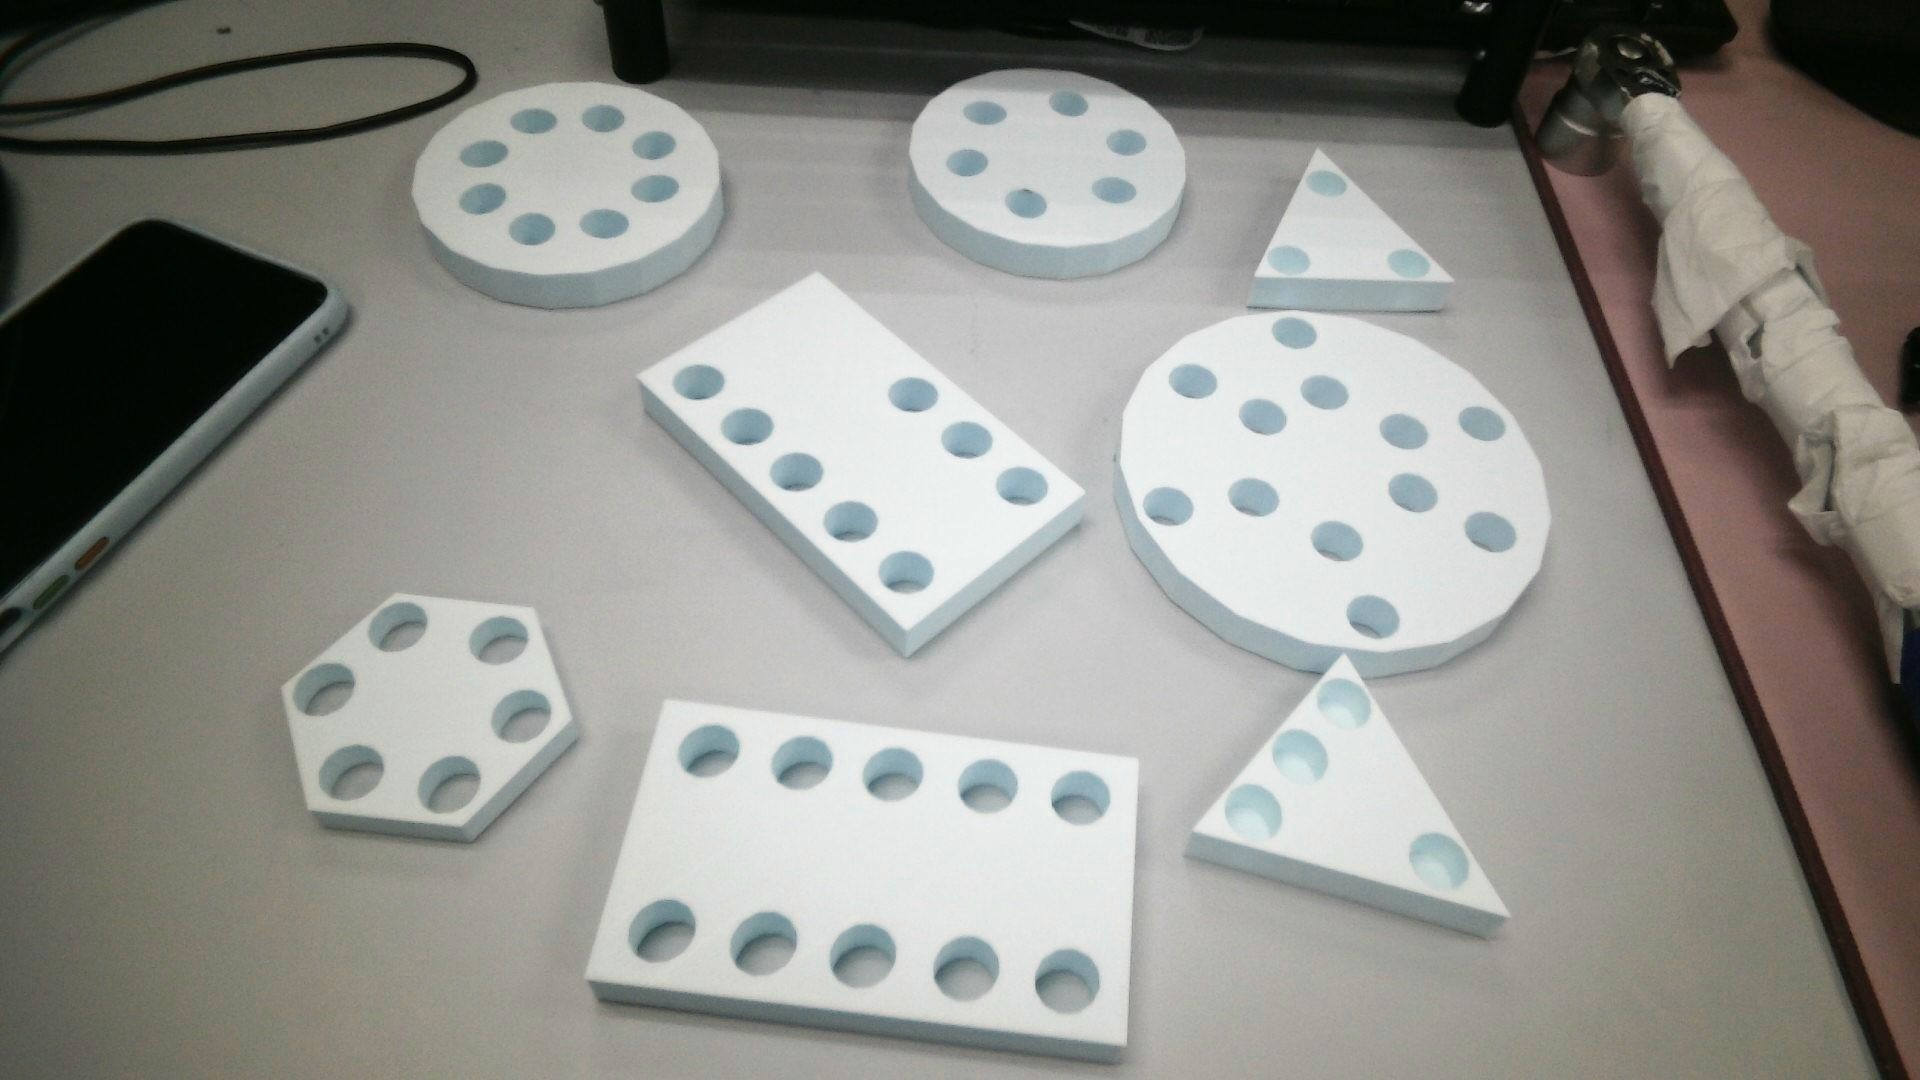hole: (626, 897, 695, 969), (828, 920, 897, 989), (413, 749, 483, 815), (316, 738, 385, 804), (727, 909, 795, 975), (934, 938, 1000, 1000), (487, 684, 554, 744), (1408, 831, 1470, 893), (367, 599, 429, 659), (858, 742, 920, 803), (1036, 949, 1095, 1014), (291, 662, 353, 721), (1222, 785, 1284, 844), (1316, 673, 1374, 735), (767, 737, 833, 790), (676, 724, 742, 775), (1052, 771, 1113, 827), (960, 758, 1017, 816), (469, 615, 533, 665), (1273, 728, 1327, 785), (880, 545, 934, 595), (1342, 595, 1402, 640), (1386, 467, 1436, 518), (942, 415, 994, 462), (1139, 483, 1189, 530), (1464, 510, 1515, 556), (1379, 410, 1433, 454), (1455, 400, 1509, 443), (996, 464, 1046, 510), (773, 448, 824, 493), (1309, 520, 1365, 560), (673, 359, 725, 401), (825, 500, 874, 539), (509, 208, 555, 249), (887, 371, 934, 411), (1170, 361, 1217, 401), (1225, 480, 1273, 520), (720, 406, 770, 443), (626, 175, 680, 208), (1379, 247, 1433, 280), (1242, 392, 1283, 435), (1271, 313, 1317, 351), (1298, 373, 1349, 407), (459, 178, 502, 218), (579, 204, 624, 243), (1105, 127, 1154, 160), (508, 105, 563, 133), (948, 145, 994, 177), (964, 96, 1011, 127), (1047, 88, 1092, 120), (583, 102, 625, 135), (460, 141, 512, 166), (1269, 243, 1311, 272), (636, 129, 673, 162), (1009, 191, 1050, 220), (1308, 170, 1349, 199), (1093, 178, 1135, 204)
obj: (585, 688, 1143, 1065), (629, 270, 1096, 679), (1098, 309, 1564, 673), (1193, 659, 1513, 973), (266, 578, 584, 855), (415, 78, 727, 310), (913, 61, 1182, 280), (1230, 135, 1460, 316)
